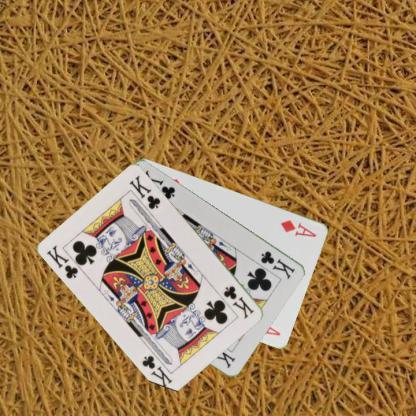Ad: (278, 217, 318, 238)
Kc: (44, 242, 80, 280), (221, 283, 255, 321), (258, 248, 296, 281)
